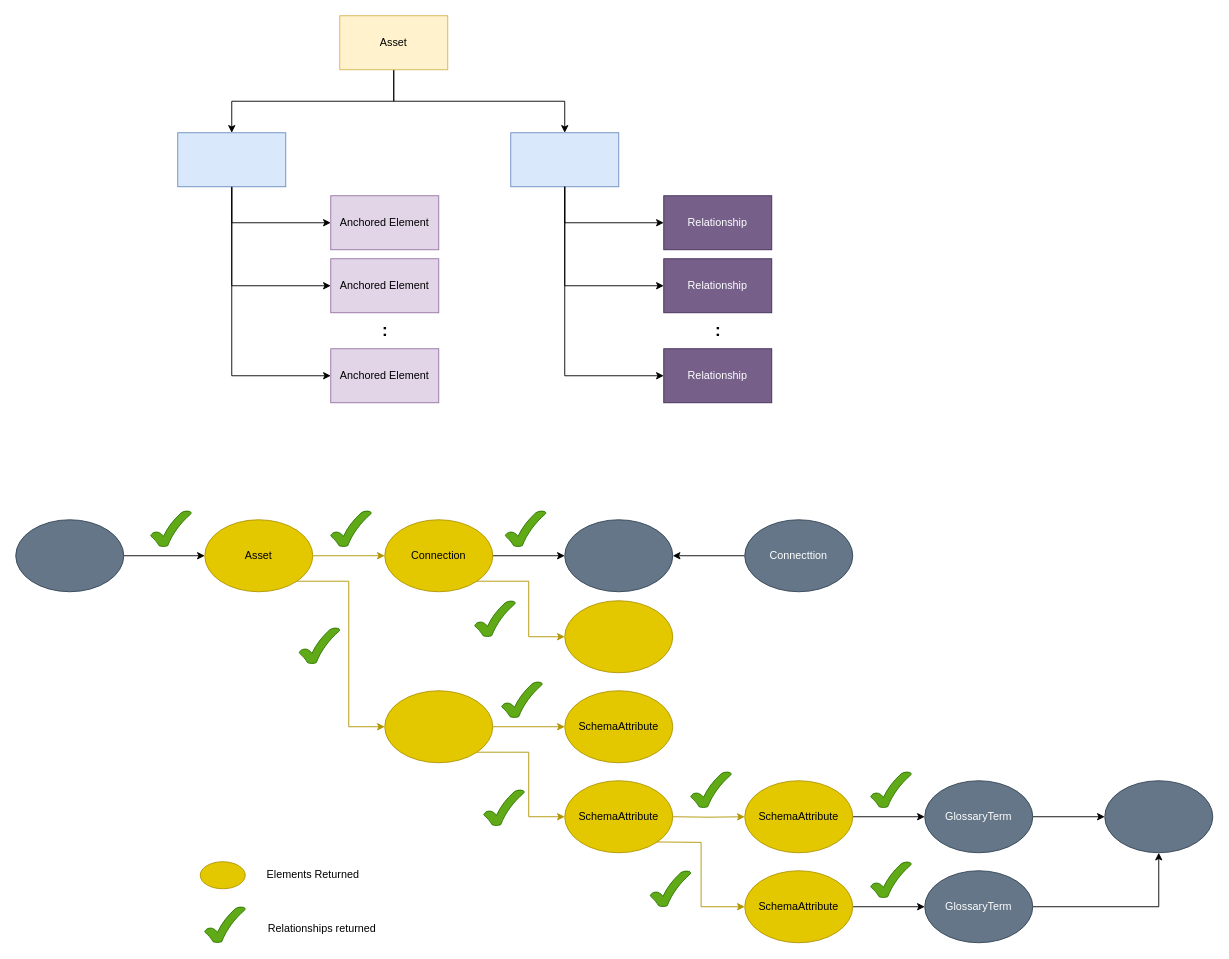
Image size: 1229x959. Some labels were removed from this diagram. Here are the shapes that lost their labels. From the top down, the centre of each, then its label:
At point (231, 159): "Anchored Elements".
At point (564, 159): "Relationships".
At point (69, 555): "Collection".
At point (618, 555): "ConnectorType".
At point (618, 636): "Endpoint".
At point (438, 726): "SchemaType".
At point (1158, 816): "Glossary".
